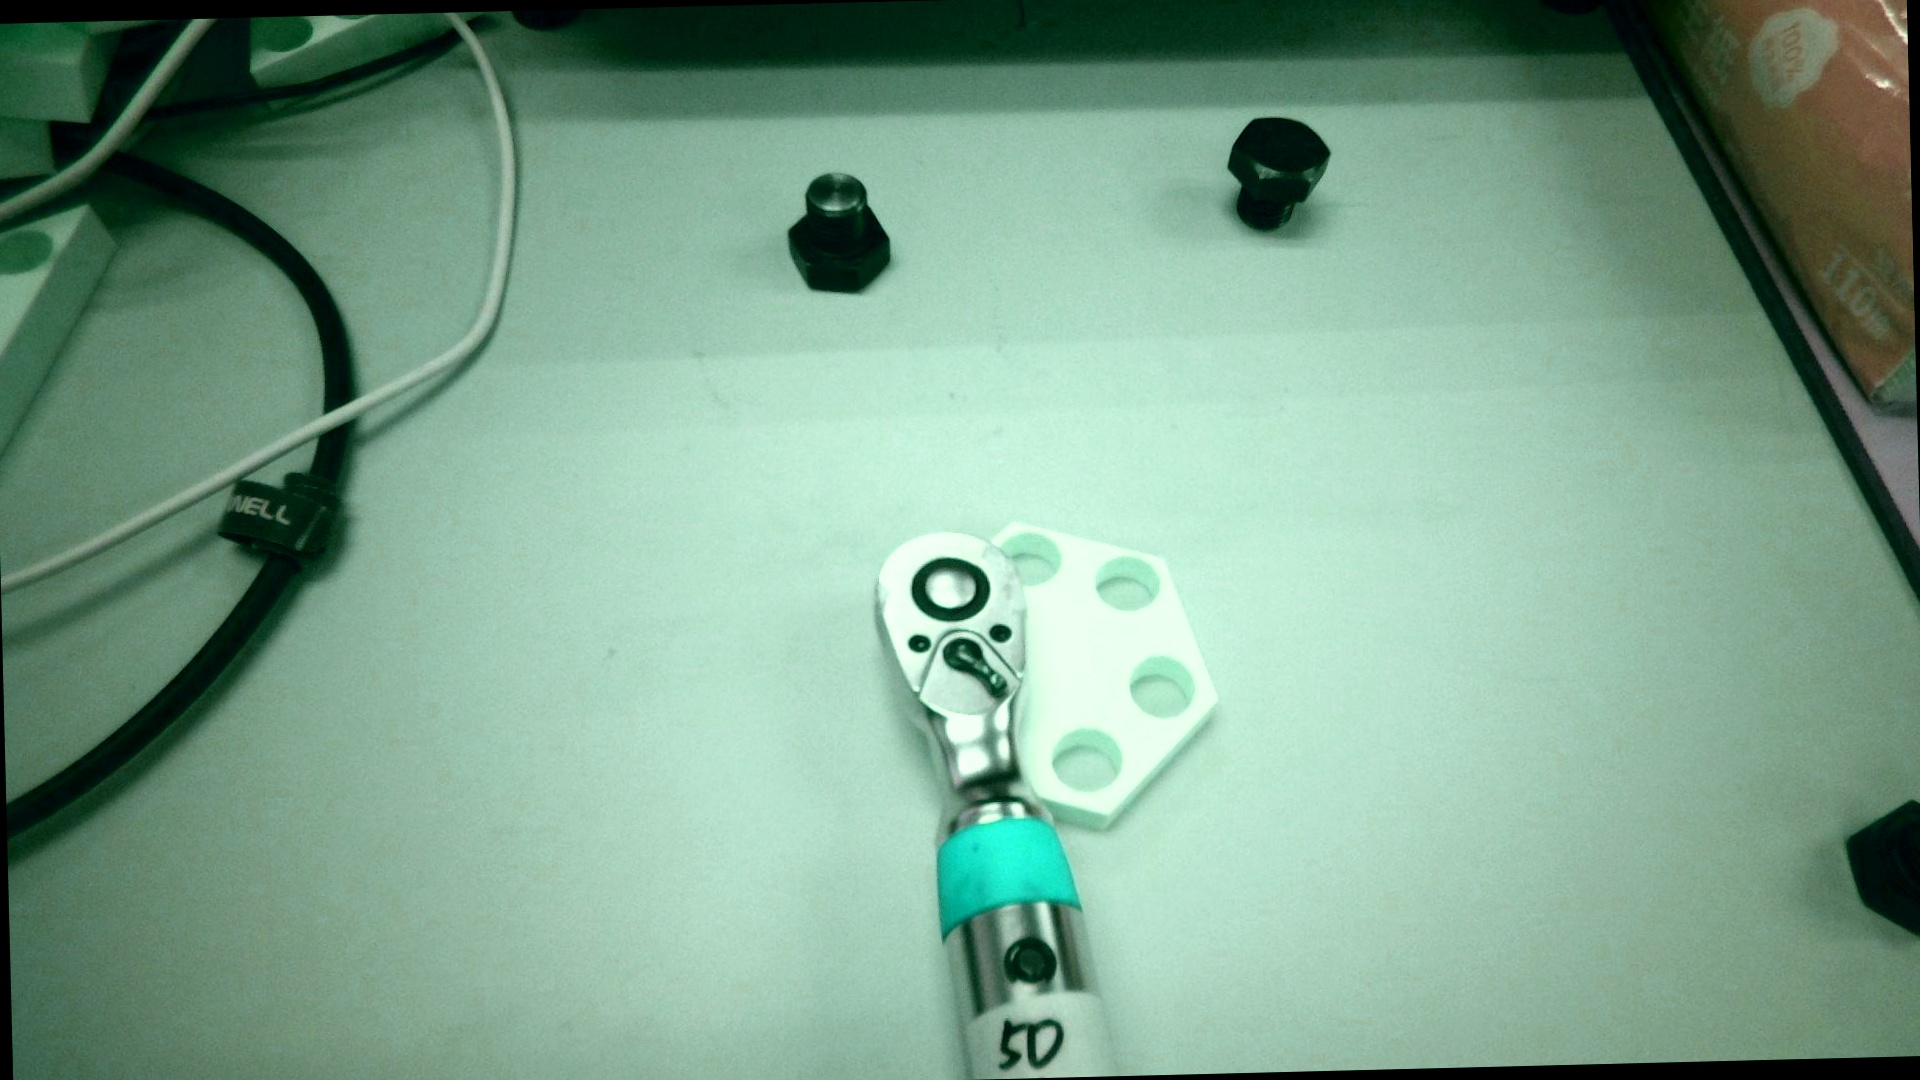hole: (1050, 725, 1124, 793), (1127, 654, 1196, 719), (998, 531, 1064, 588), (1093, 556, 1160, 611)
obj: (989, 516, 1222, 832)
wrench: (911, 556, 992, 624)
